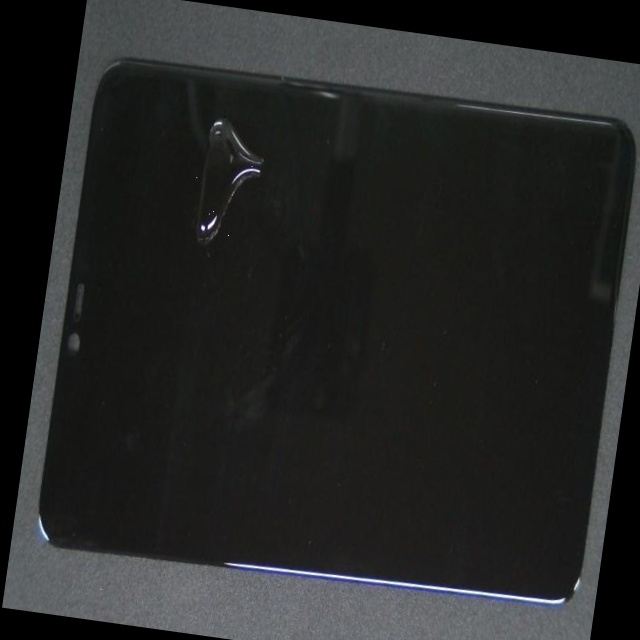oil: (112, 16, 289, 282)
